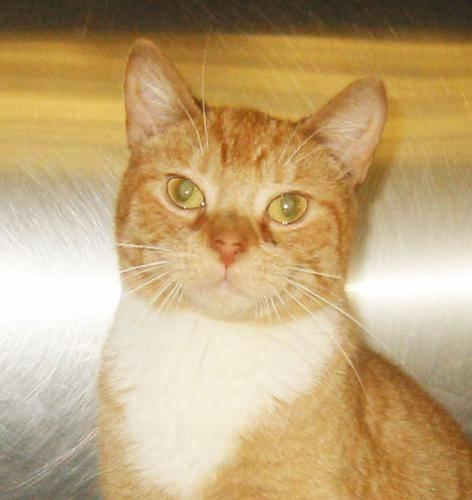cat: (100, 41, 471, 499)
